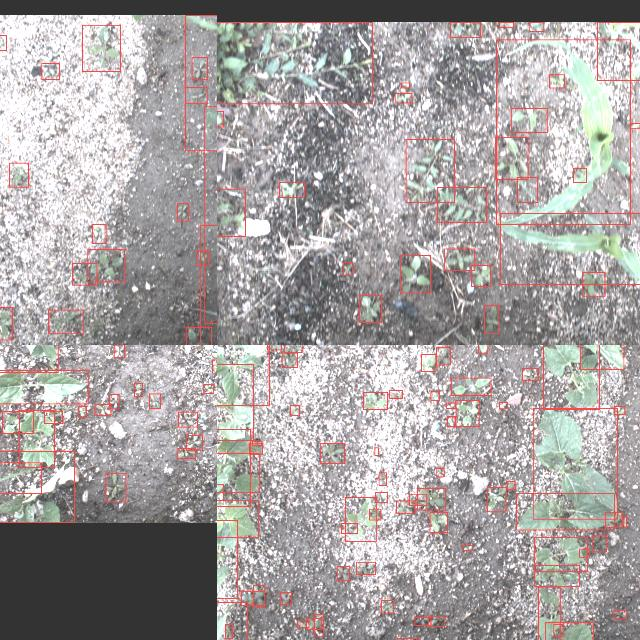crop: (497, 38, 631, 224), (500, 212, 640, 283), (533, 408, 617, 518), (0, 450, 74, 521), (185, 14, 217, 150), (516, 493, 614, 529), (543, 345, 599, 408), (217, 345, 269, 405), (0, 369, 88, 403), (217, 363, 253, 440), (217, 428, 250, 506), (597, 21, 640, 79), (20, 409, 54, 467), (534, 536, 588, 572), (217, 520, 237, 598), (0, 345, 57, 372), (217, 499, 258, 536), (538, 586, 560, 640), (580, 345, 624, 368), (545, 622, 593, 640)
weed: (217, 21, 372, 103), (406, 138, 454, 202), (438, 186, 487, 222), (82, 24, 120, 70), (217, 452, 259, 492), (496, 136, 528, 180), (346, 497, 376, 541), (217, 188, 245, 235), (0, 462, 41, 493), (88, 248, 124, 282), (400, 255, 430, 293), (217, 602, 247, 640), (534, 564, 580, 586), (511, 107, 547, 131), (48, 310, 84, 332), (2, 411, 34, 433), (445, 248, 475, 270), (416, 487, 446, 509), (451, 378, 491, 394), (360, 294, 382, 322), (72, 263, 98, 285), (456, 399, 478, 425), (106, 473, 126, 501), (583, 272, 605, 296), (517, 176, 537, 202), (486, 486, 506, 512), (9, 162, 29, 186), (320, 443, 344, 463), (186, 327, 212, 345), (451, 22, 481, 36), (472, 264, 491, 286), (0, 306, 12, 339), (484, 305, 498, 333), (363, 392, 387, 408), (430, 512, 448, 532), (192, 56, 208, 78), (185, 86, 207, 102), (280, 182, 304, 196), (241, 591, 265, 605), (42, 62, 60, 78), (178, 412, 198, 426), (186, 434, 202, 450), (92, 224, 106, 242), (436, 346, 450, 364), (604, 512, 622, 526), (253, 585, 264, 607), (356, 562, 376, 574), (422, 354, 436, 371), (45, 411, 63, 424), (282, 352, 298, 366), (592, 535, 606, 551), (314, 614, 324, 636), (396, 500, 414, 512), (409, 493, 427, 505), (522, 367, 538, 379), (336, 566, 349, 580), (178, 203, 188, 221), (394, 92, 412, 102), (178, 448, 196, 458), (196, 250, 208, 264), (550, 74, 564, 86), (574, 168, 586, 182), (95, 404, 111, 414), (306, 618, 322, 628), (341, 523, 357, 533), (428, 616, 444, 626), (280, 592, 292, 604), (381, 600, 393, 612), (109, 394, 119, 408), (150, 394, 160, 408), (113, 345, 124, 357), (415, 617, 431, 625), (530, 22, 544, 31), (250, 443, 262, 453), (370, 508, 380, 520), (375, 492, 387, 502), (554, 624, 564, 636), (134, 382, 142, 396), (343, 262, 352, 274), (284, 345, 301, 351), (290, 405, 300, 415), (430, 390, 440, 400), (225, 624, 232, 638), (217, 110, 223, 126), (217, 484, 223, 500), (297, 619, 309, 627), (390, 389, 402, 397), (379, 472, 387, 484), (614, 610, 626, 618), (0, 34, 6, 49), (204, 383, 214, 392), (78, 406, 86, 416), (447, 416, 455, 426), (579, 548, 589, 556), (615, 406, 625, 414), (436, 468, 444, 477), (478, 345, 488, 352), (212, 359, 217, 372), (507, 481, 515, 489), (630, 122, 640, 128), (446, 402, 456, 408), (462, 544, 472, 550), (499, 22, 513, 26), (268, 345, 282, 349), (499, 402, 507, 408), (252, 441, 262, 445), (401, 82, 409, 86), (375, 447, 379, 455), (624, 516, 626, 526)
